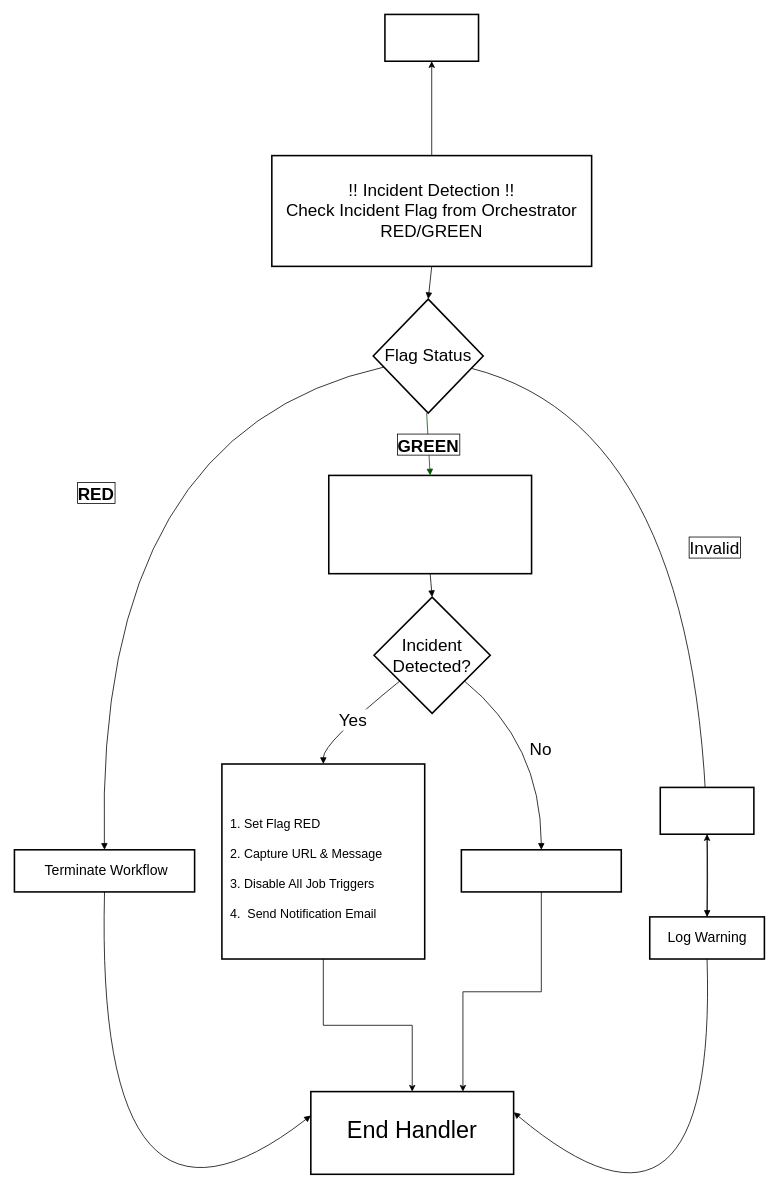
Some shapes in this 778 by 1188 pixel diagram are drawn without their labels. Each missing label, with the centre of its shape:
"Continue Monitoring" belongs at (x=541, y=870).
"Detect Incident on Application With Element Exists" belongs at (x=430, y=524).
"Set Flag RED" belongs at (x=706, y=810).
"START" belongs at (x=431, y=37).
